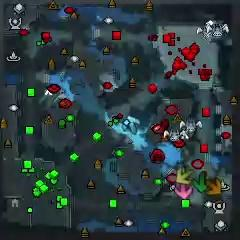x1: (175, 182, 193, 200)
x2: (175, 168, 192, 185)
x3: (121, 115, 141, 134)
x4: (194, 171, 209, 193)
x5: (207, 179, 223, 195)
